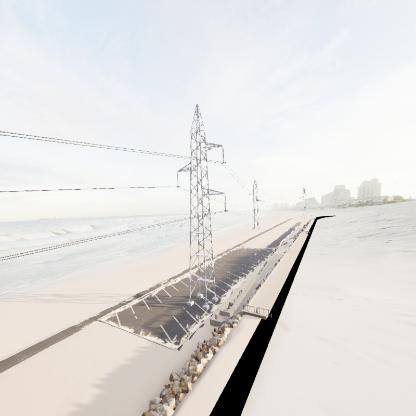tower: (174, 106, 232, 311)
